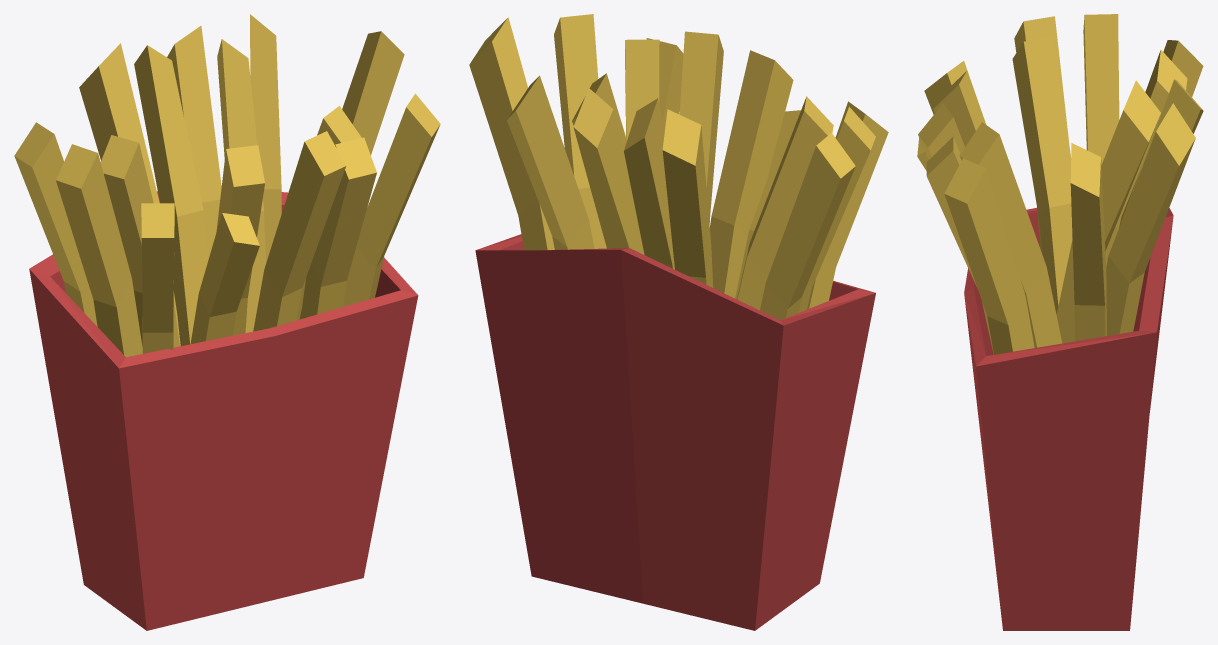
The model's file is chips_creativetrio.glb.
The picture shows the model from 3 angles, left to right: view 1: azimuth 30°, elevation 25°; view 2: azimuth 150°, elevation 25°; view 3: azimuth 270°, elevation 25°; orthographic projection. The views are drawn at different scales.
Visible parts, largest first — view 1: Chips; view 2: Chips; view 3: Chips.
Part boxes in pixels (bbox=[...]): Chips: bbox=[14, 14, 440, 630]; Chips: bbox=[469, 14, 888, 630]; Chips: bbox=[917, 14, 1203, 630].
Size of the model in its own units: 0.0937 by 0.1235 by 0.0624.
Materials: 1 (1 with a texture image).
